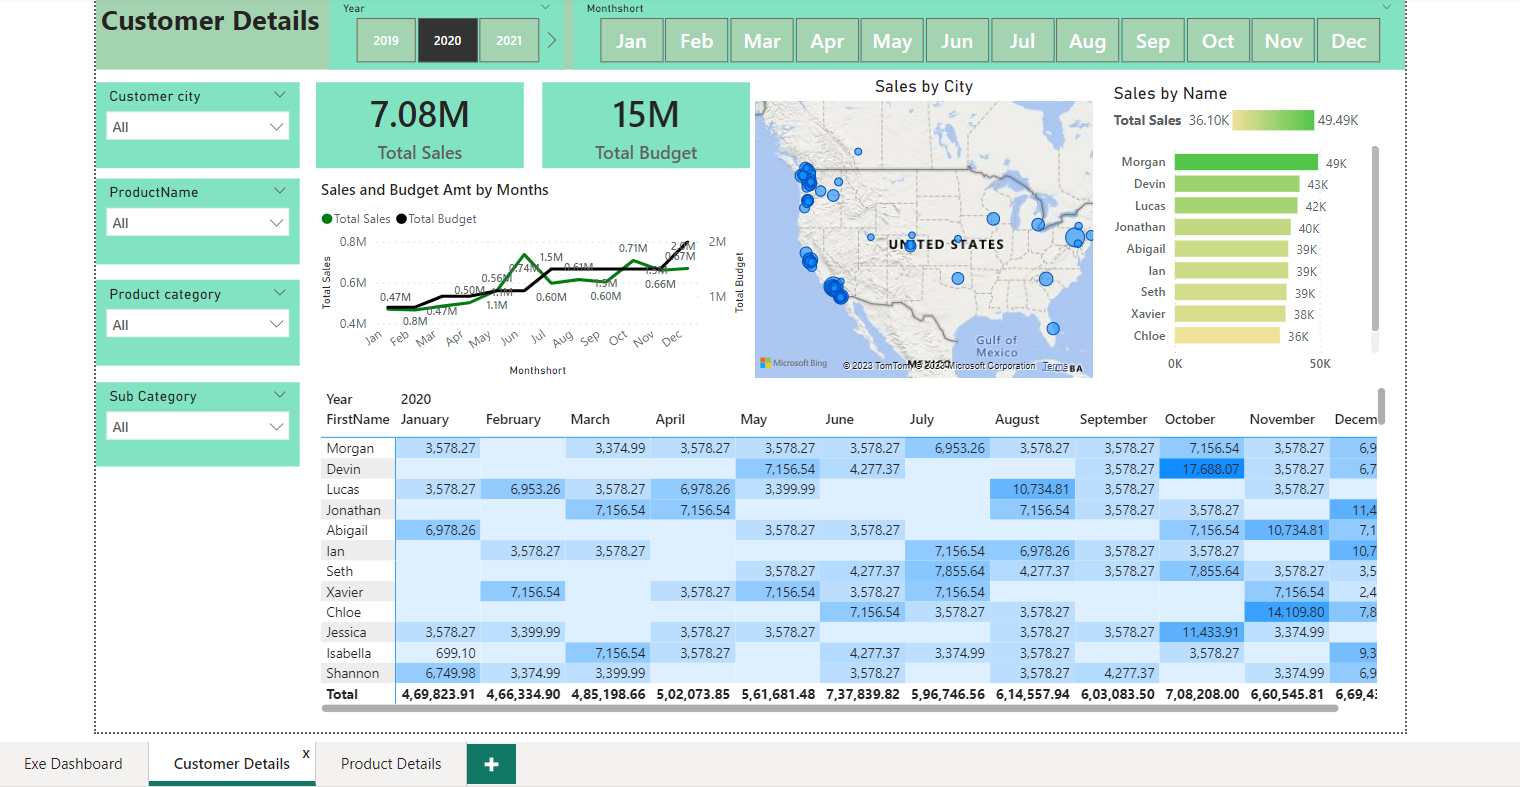

Layout of this report page (visuals, bound fields, positions):
{"tool":"powerbi","page":{"name":"Customer Details","canvas":[1280,720],"ordinal":1},"visuals":[{"type":"textbox","box":[0,0,1279.9,72.1],"z":0},{"type":"slicer","fields":{"Values":["Customer.Customer city"]},"box":[0,83.8,198.9,83.8],"z":1000},{"type":"slicer","fields":{"Values":["Product.ProductName"]},"box":[0,179,198.9,83.8],"z":2000},{"type":"slicer","fields":{"Values":["Product.Product category"]},"box":[0,277.1,198.9,83.8],"z":3000},{"type":"slicer","fields":{"Values":["Product.Sub Category"]},"box":[0,378,198.9,82.4],"z":4000},{"type":"slicer","fields":{"Values":["Calendar.Year"]},"box":[228.6,0,228.6,72.1],"z":5000},{"type":"slicer","fields":{"Values":["Calendar.Monthshort"]},"box":[467,0,812.9,72.1],"z":6000},{"type":"card","fields":{"Values":["Table Measures.Total Sales"]},"box":[214.6,83.8,203.2,83.8],"z":7000},{"type":"lineChart","title":"Sales and Budget Amt by Months","fields":{"Y":["Table Measures.Total Sales"],"Y2":["Table Measures.Total Budget"],"Category":["Calendar.Monthshort"]},"box":[214.6,179,424.9,198.9],"z":9000},{"type":"clusteredBarChart","title":"Sales by Name","fields":{"Category":["Customer.FirstName"],"Y":["Table Measures.Total Sales"]},"box":[990.4,83.8,270,294.1],"z":10000},{"type":"map","title":"Sales by City","fields":{"Category":["Customer.Customer city"],"Size":["Table Measures.Total Sales"]},"box":[639.4,78.2,341,299.8],"z":12000},{"type":"card","fields":{"Values":["Table Measures.Total Budget"]},"box":[436.2,83.8,203.2,83.8],"z":12001},{"type":"pivotTable","fields":{"Rows":["Customer.FirstName"],"Columns":["Calendar.Date.Variation.Date Hierarchy.Year","Calendar.Date.Variation.Date Hierarchy.Month"],"Values":["Table Measures.Total Sales"]},"box":[214.6,378,1051.5,328.2],"z":12002}]}

Visuals, with their boxes on the page's 1280x720 design canvas (x1, y1, x2, y2). These are canvas units, not pixel positions in the 1520x787 screenshot, which may show the page scaled, cropped or inside an application window:
textbox: x1=0 y1=0 x2=1280 y2=72
slicer - Customer.Customer city: x1=0 y1=84 x2=199 y2=168
slicer - Product.ProductName: x1=0 y1=179 x2=199 y2=263
slicer - Product.Product category: x1=0 y1=277 x2=199 y2=361
slicer - Product.Sub Category: x1=0 y1=378 x2=199 y2=460
slicer - Calendar.Year: x1=229 y1=0 x2=457 y2=72
slicer - Calendar.Monthshort: x1=467 y1=0 x2=1280 y2=72
card - Table Measures.Total Sales: x1=215 y1=84 x2=418 y2=168
"Sales and Budget Amt by Months" lineChart: x1=215 y1=179 x2=640 y2=378
"Sales by Name" clusteredBarChart: x1=990 y1=84 x2=1260 y2=378
"Sales by City" map: x1=639 y1=78 x2=980 y2=378
card - Table Measures.Total Budget: x1=436 y1=84 x2=639 y2=168
pivotTable - Customer.FirstName x Calendar.Date.Variation.Date Hierarchy.Year: x1=215 y1=378 x2=1266 y2=706
